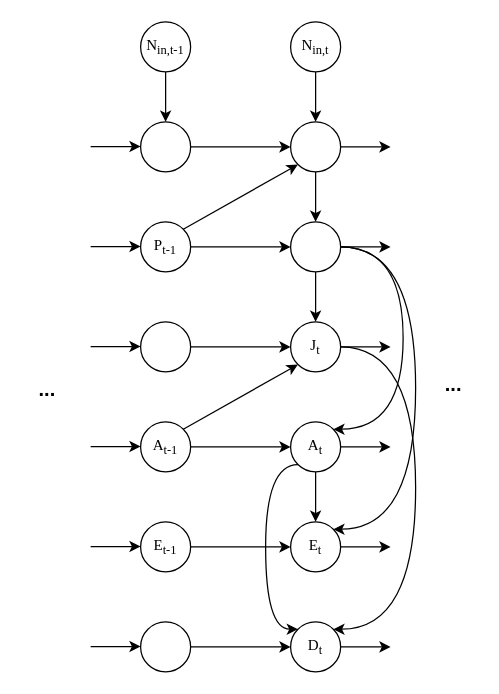
This 499x694 diagram has some shape labels left out. The box of each missing label's shape, as (x1, y1, x2, y2) in pixels:
D t-1: (139, 621, 191, 672)
J t-1: (139, 321, 191, 372)
N t: (289, 121, 341, 172)
N t-1: (139, 121, 191, 172)
P t: (289, 221, 341, 272)
